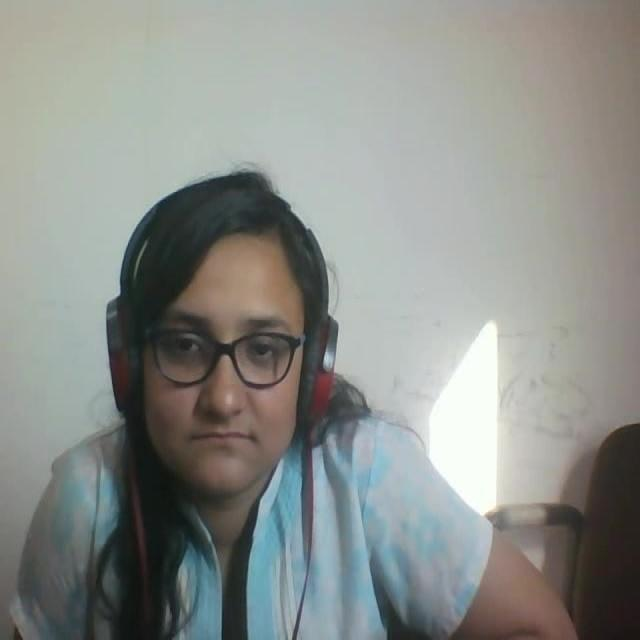Engaged: (104, 169, 368, 535)
